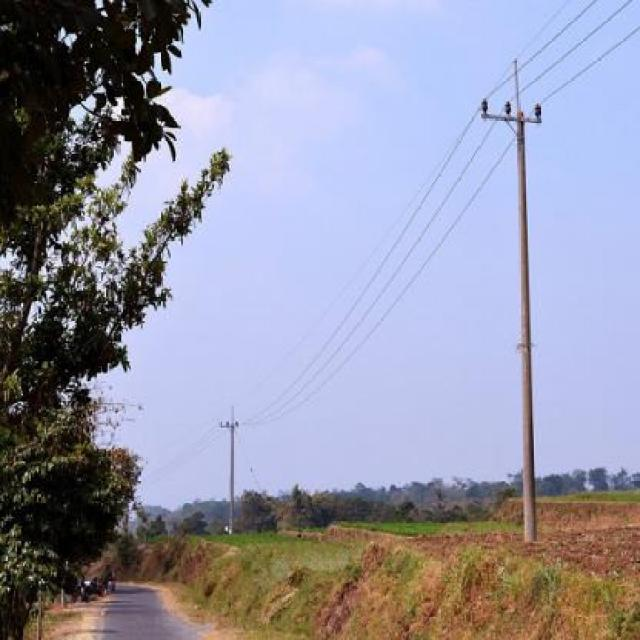pole: (476, 56, 564, 544)
